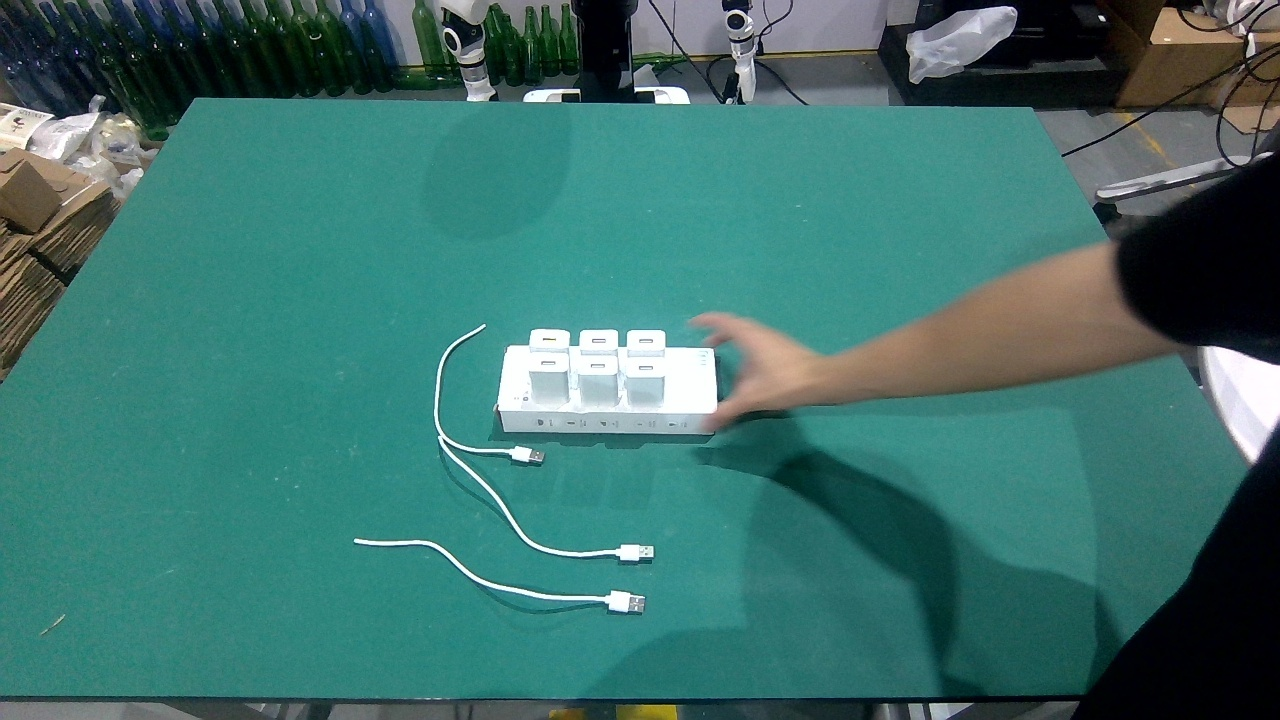usb_a_port: (637, 364, 655, 372), (637, 338, 655, 345), (539, 359, 556, 366), (589, 338, 608, 344), (589, 363, 606, 369), (541, 336, 557, 342)
